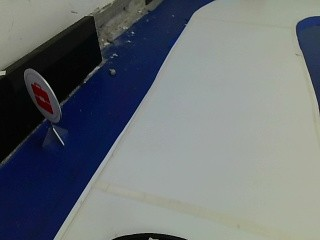company: (20, 65, 65, 127)
